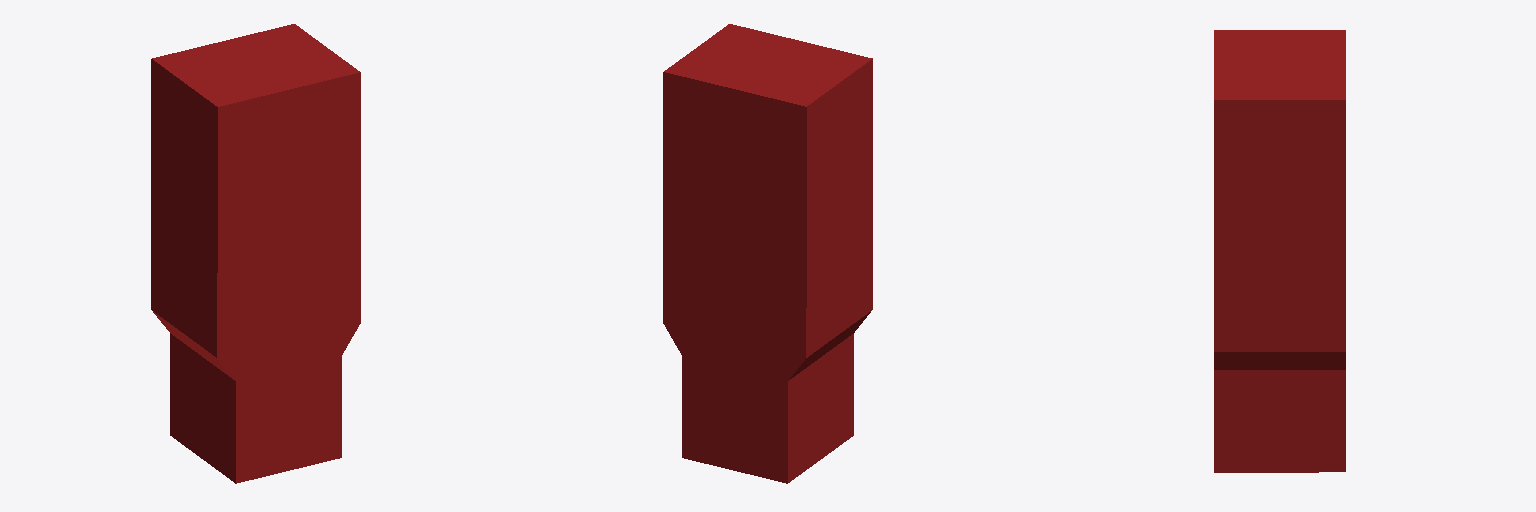
File: R_AFE.obj
3 views of the same model, side by side, from view 1: azimuth 30°, elevation 25°; view 2: azimuth 150°, elevation 25°; view 3: azimuth 270°, elevation 25° (orthographic).
Bounding box in the file's own units: 1.85 × 4.7 × 1.48.